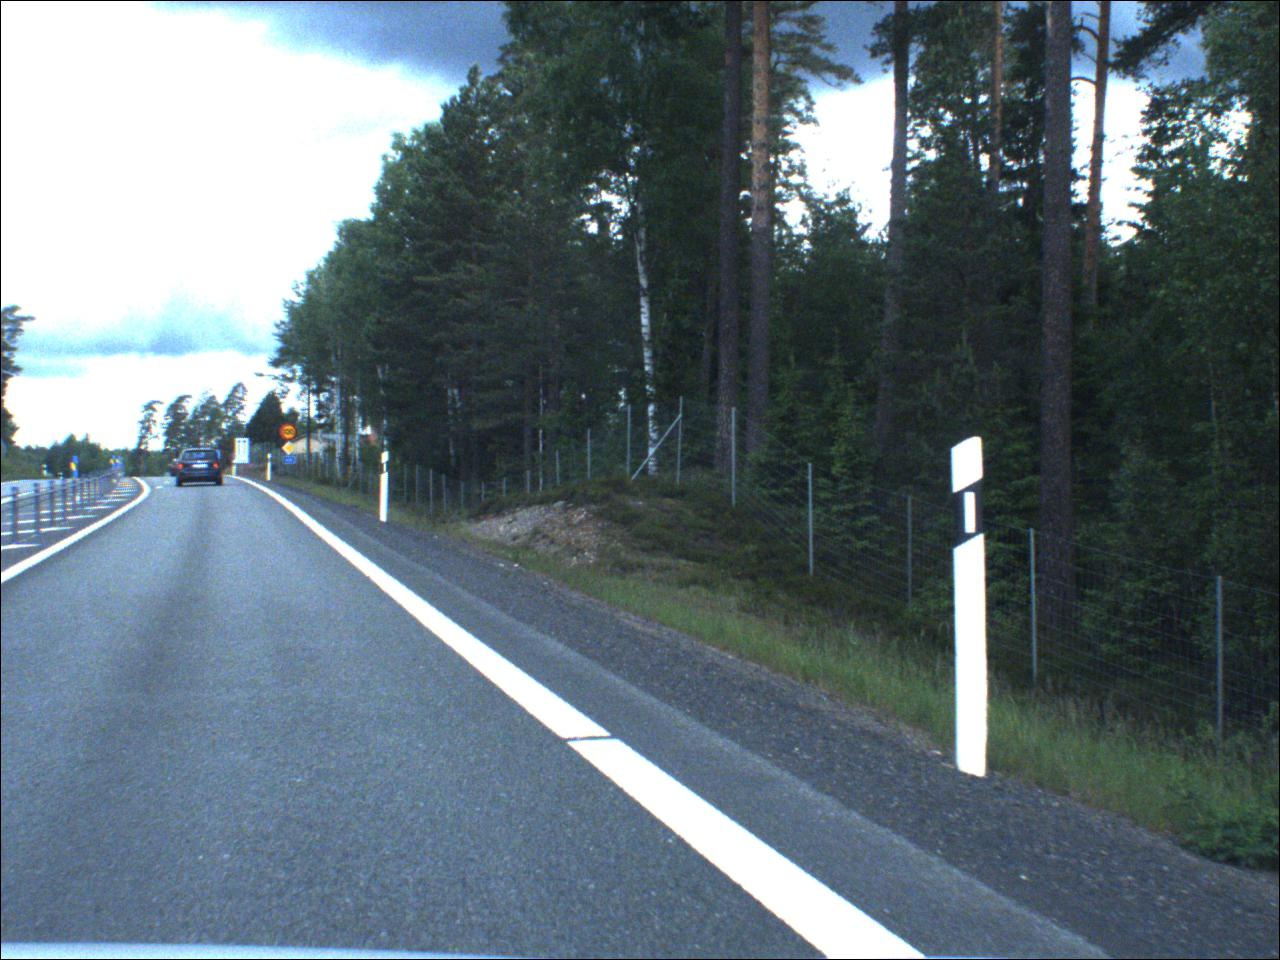100_SIGN: (280, 425, 299, 442)
PRIORITY_ROAD: (283, 443, 298, 457)
